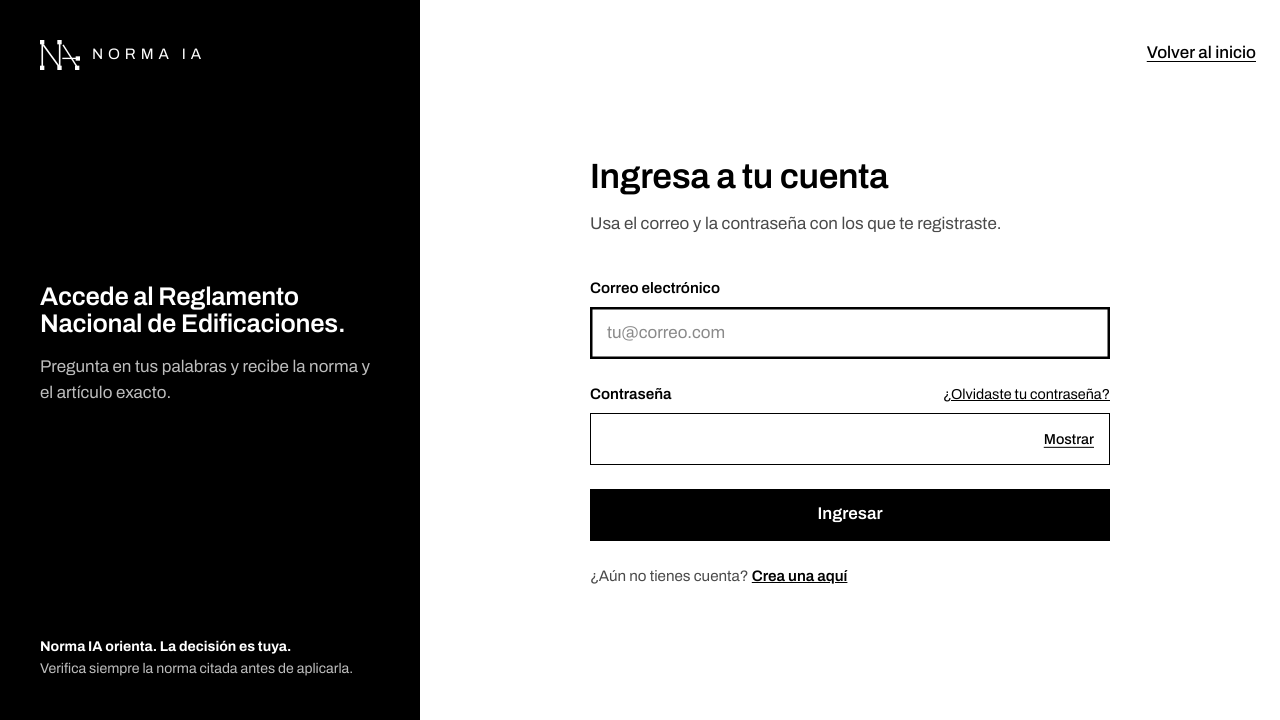
it: ingreso › bloqueo temporal muestra minutos de espera
The width and height of the screenshot is (1280, 720).
Type "ana@correo.com" into the field labelled "Correo electrónico".
click(850, 333); type("ana@correo.com")  # box [590,307,1110,359]
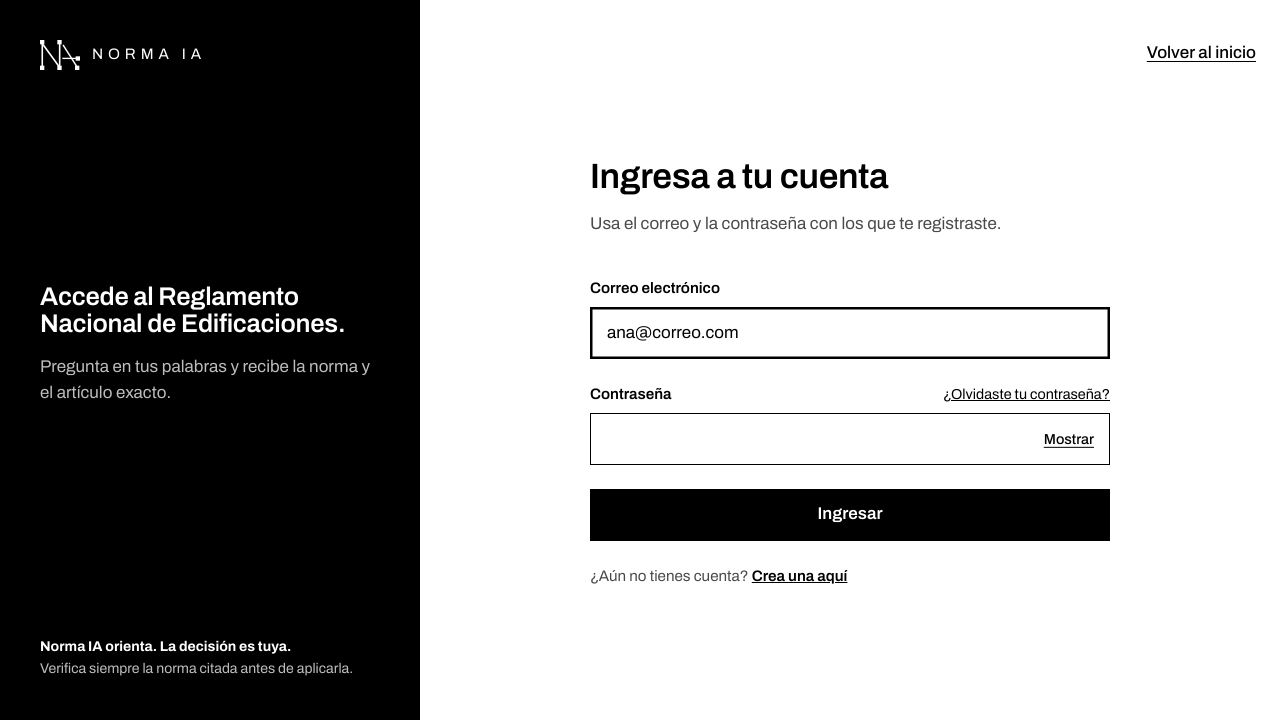
Type "Mala1234" into the password field labelled "Contraseña".
click(850, 439); type("Mala1234")  # box [590,413,1110,465]
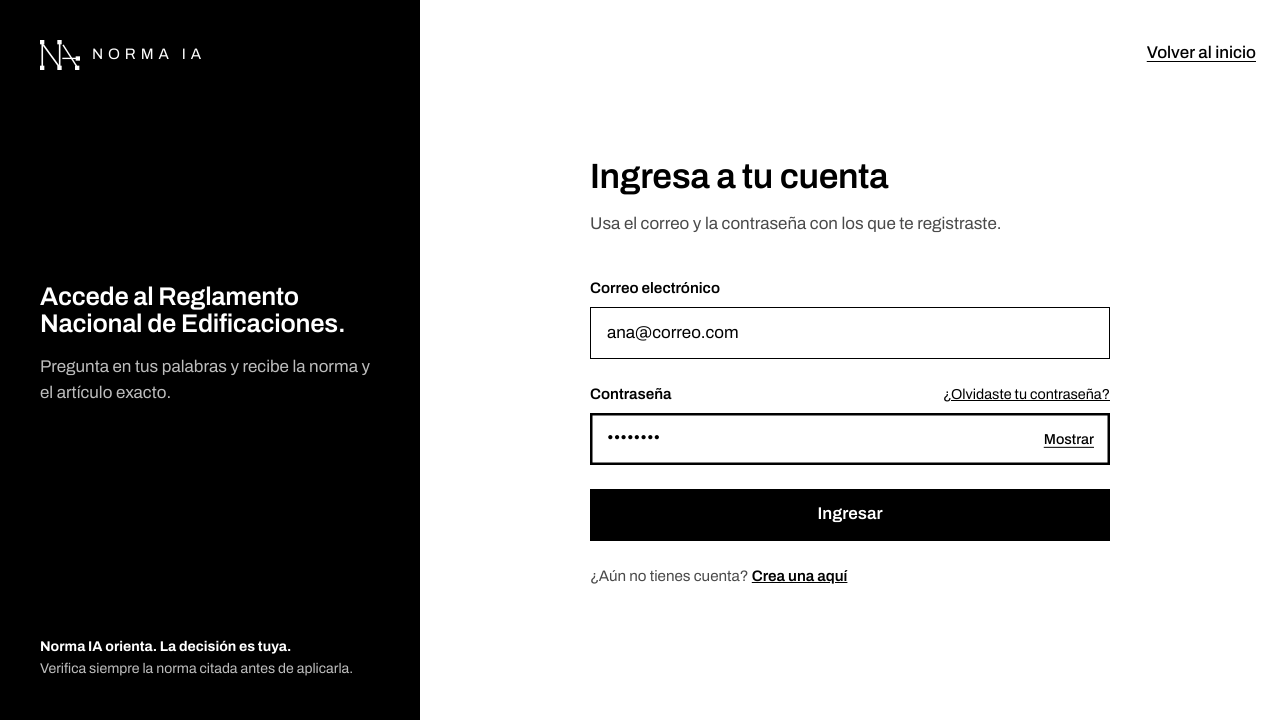
Click the button "Ingresar".
click(850, 515)  # box [590,489,1110,541]
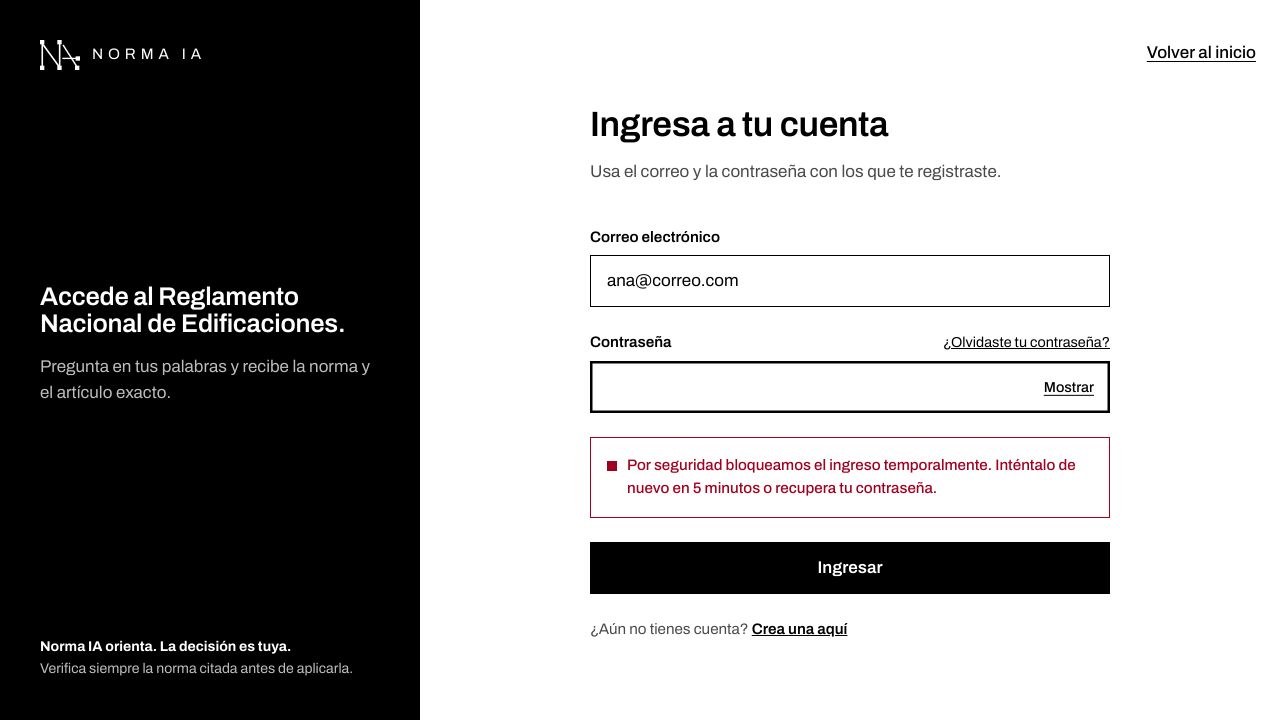
Check: the message shows "Inténtalo de nuevo en 5 minutos", box [627,457,1076,496]
